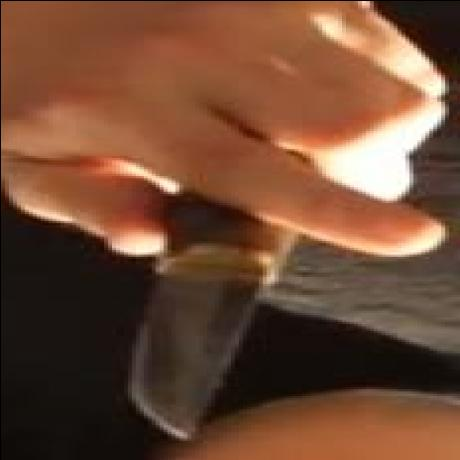1: (0, 0, 458, 264)
weapon: (125, 185, 309, 436)
